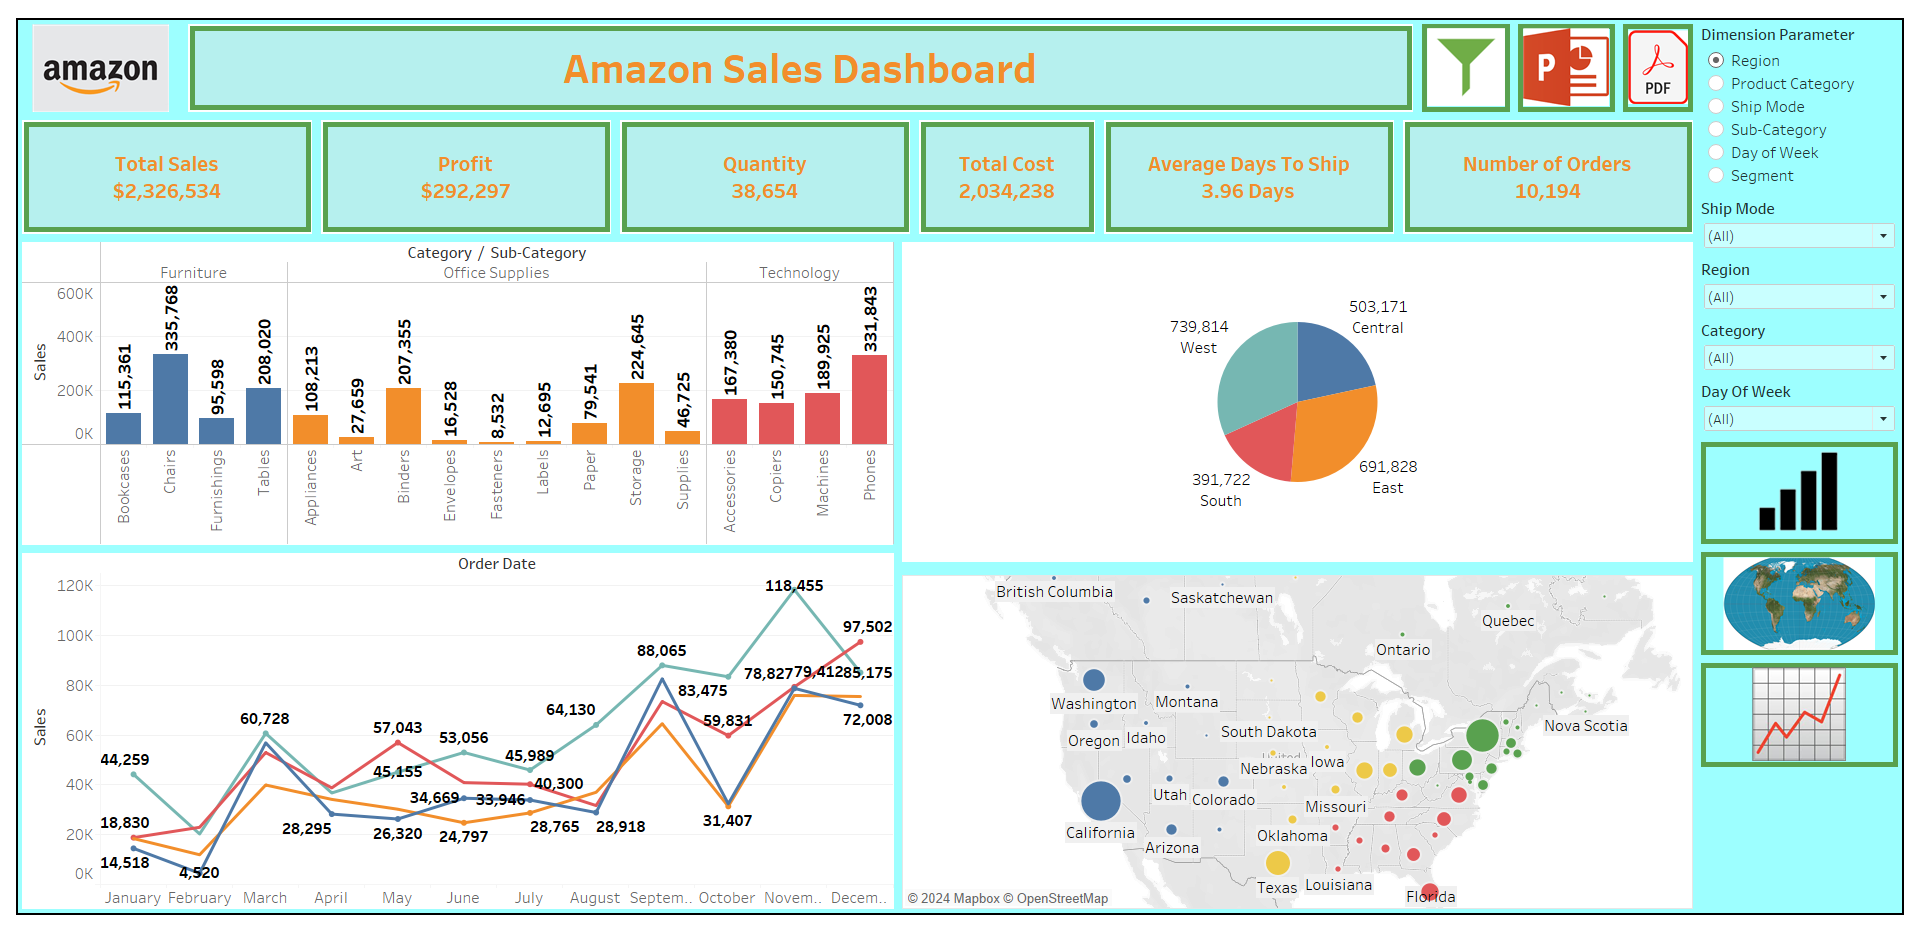

The dashboard page shown, as its layout file describes it:
{"tool":"tableau","page":{"name":"Sales Dashboard","canvas":[1000,1000],"units":"permille","ordinal":0},"visuals":[{"type":"image","param":"Image/Amazon Logo.png","box":[6,11.8,100.2,105.1]},{"type":"worksheet","title":"Title Name","mark":"Automatic","box":[106.2,11.8,624.2,105.1]},{"type":"dashboard-object","box":[730.5,11.8,53.7,105.1]},{"type":"dashboard-object","box":[784.2,11.8,59.1,105.1]},{"type":"dashboard-object","box":[843.3,11.8,43.5,105.1]},{"type":"parameter","param":"[Parameters].[Parameter 2]","box":[886.8,11.8,107.2,204.5]},{"type":"worksheet","title":"Sales KPI","mark":"Automatic","box":[6,116.9,153.8,133.3]},{"type":"worksheet","title":"Profit KPI","mark":"Automatic","box":[159.8,116.9,153.8,133.3]},{"type":"worksheet","title":"Quantity KPI","mark":"Automatic","box":[313.7,116.9,153.8,133.3]},{"type":"worksheet","title":"Cost KPI","mark":"Automatic","box":[467.5,116.9,111.7,133.3]},{"type":"worksheet","title":"Days to Ship KPI","mark":"Automatic","box":[579.1,116.9,153.8,133.3]},{"type":"worksheet","title":"Number of orders","mark":"Automatic","box":[732.9,116.9,153.8,133.3]},{"type":"filter","title":"Bar Chart1","param":"[federated.1ujeapy1lq66ob1brtm4c0k7x61z].[none:Ship Mode:nk]","box":[886.8,216.2,107.2,71.7]},{"type":"worksheet","title":"Bar Chart1","mark":"Automatic","rows":["Sales"],"cols":["Category","Sub-Category"],"box":[6,250.2,461.7,365.4]},{"type":"worksheet","title":"Pie Chart1","mark":"Pie","box":[467.7,250.2,419,363.7]},{"type":"filter","title":"Bar Chart1","param":"[federated.1ujeapy1lq66ob1brtm4c0k7x61z].[none:Region:nk]","box":[886.8,287.9,107.2,71.7]},{"type":"filter","title":"Bar Chart1","param":"[federated.1ujeapy1lq66ob1brtm4c0k7x61z].[none:Category:nk]","box":[886.8,359.6,107.2,71.7]},{"type":"filter","title":"Bar Chart1","param":"[federated.1ujeapy1lq66ob1brtm4c0k7x61z].[none:Calculation_109775298327998469:nk","box":[886.8,431.2,107.2,71.7]},{"type":"dashboard-object","box":[886.8,502.9,107.2,129.3]},{"type":"worksheet","title":"Map","mark":"Automatic","box":[467.7,613.8,419,374.4]},{"type":"worksheet","title":"Line Chart","mark":"Automatic","rows":["Sales"],"cols":["Order Date"],"box":[6,615.6,461.7,372.6]},{"type":"dashboard-object","box":[886.8,632.2,107.2,130.4]},{"type":"dashboard-object","box":[886.8,762.6,107.2,131.6]}]}

Visuals, with their boxes on the dashboard's canvas, which has no fixed pixel size, in thousandths of its width and height (x1, y1, x2, y2). These are canvas units, not pixel positions in the 1920x930 screenshot, which may show the page scaled, cropped or inside an application window:
image: 6:12:106:117
"Title Name" worksheet: 106:12:730:117
dashboard-object: 730:12:784:117
dashboard-object: 784:12:843:117
dashboard-object: 843:12:887:117
parameter: 887:12:994:216
"Sales KPI" worksheet: 6:117:160:250
"Profit KPI" worksheet: 160:117:314:250
"Quantity KPI" worksheet: 314:117:468:250
"Cost KPI" worksheet: 468:117:579:250
"Days to Ship KPI" worksheet: 579:117:733:250
"Number of orders" worksheet: 733:117:887:250
"Bar Chart1" filter: 887:216:994:288
"Bar Chart1" worksheet: 6:250:468:616
"Pie Chart1" worksheet (Pie marks): 468:250:887:614
"Bar Chart1" filter: 887:288:994:360
"Bar Chart1" filter: 887:360:994:431
"Bar Chart1" filter: 887:431:994:503
dashboard-object: 887:503:994:632
"Map" worksheet: 468:614:887:988
"Line Chart" worksheet: 6:616:468:988
dashboard-object: 887:632:994:763
dashboard-object: 887:763:994:894
